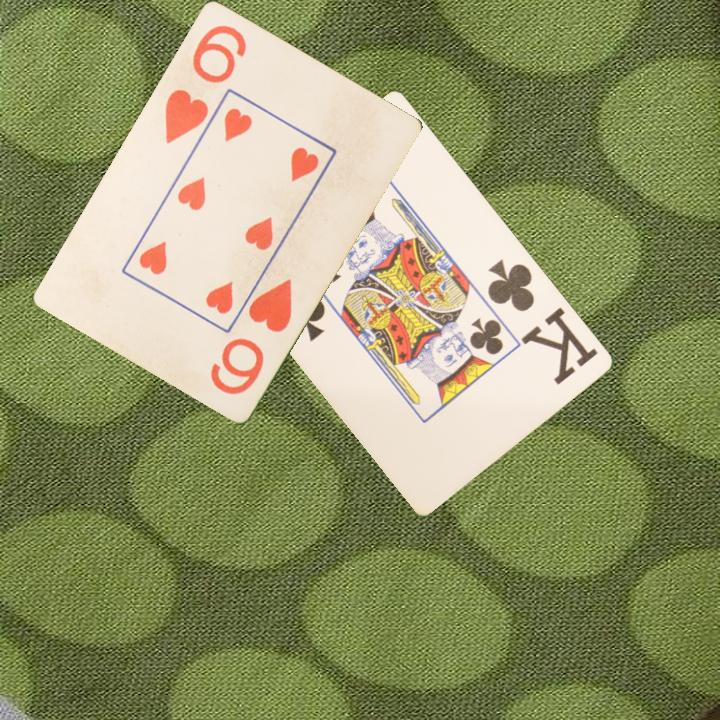6h: (160, 20, 250, 147), (206, 274, 295, 398)
Kc: (484, 255, 602, 388)
